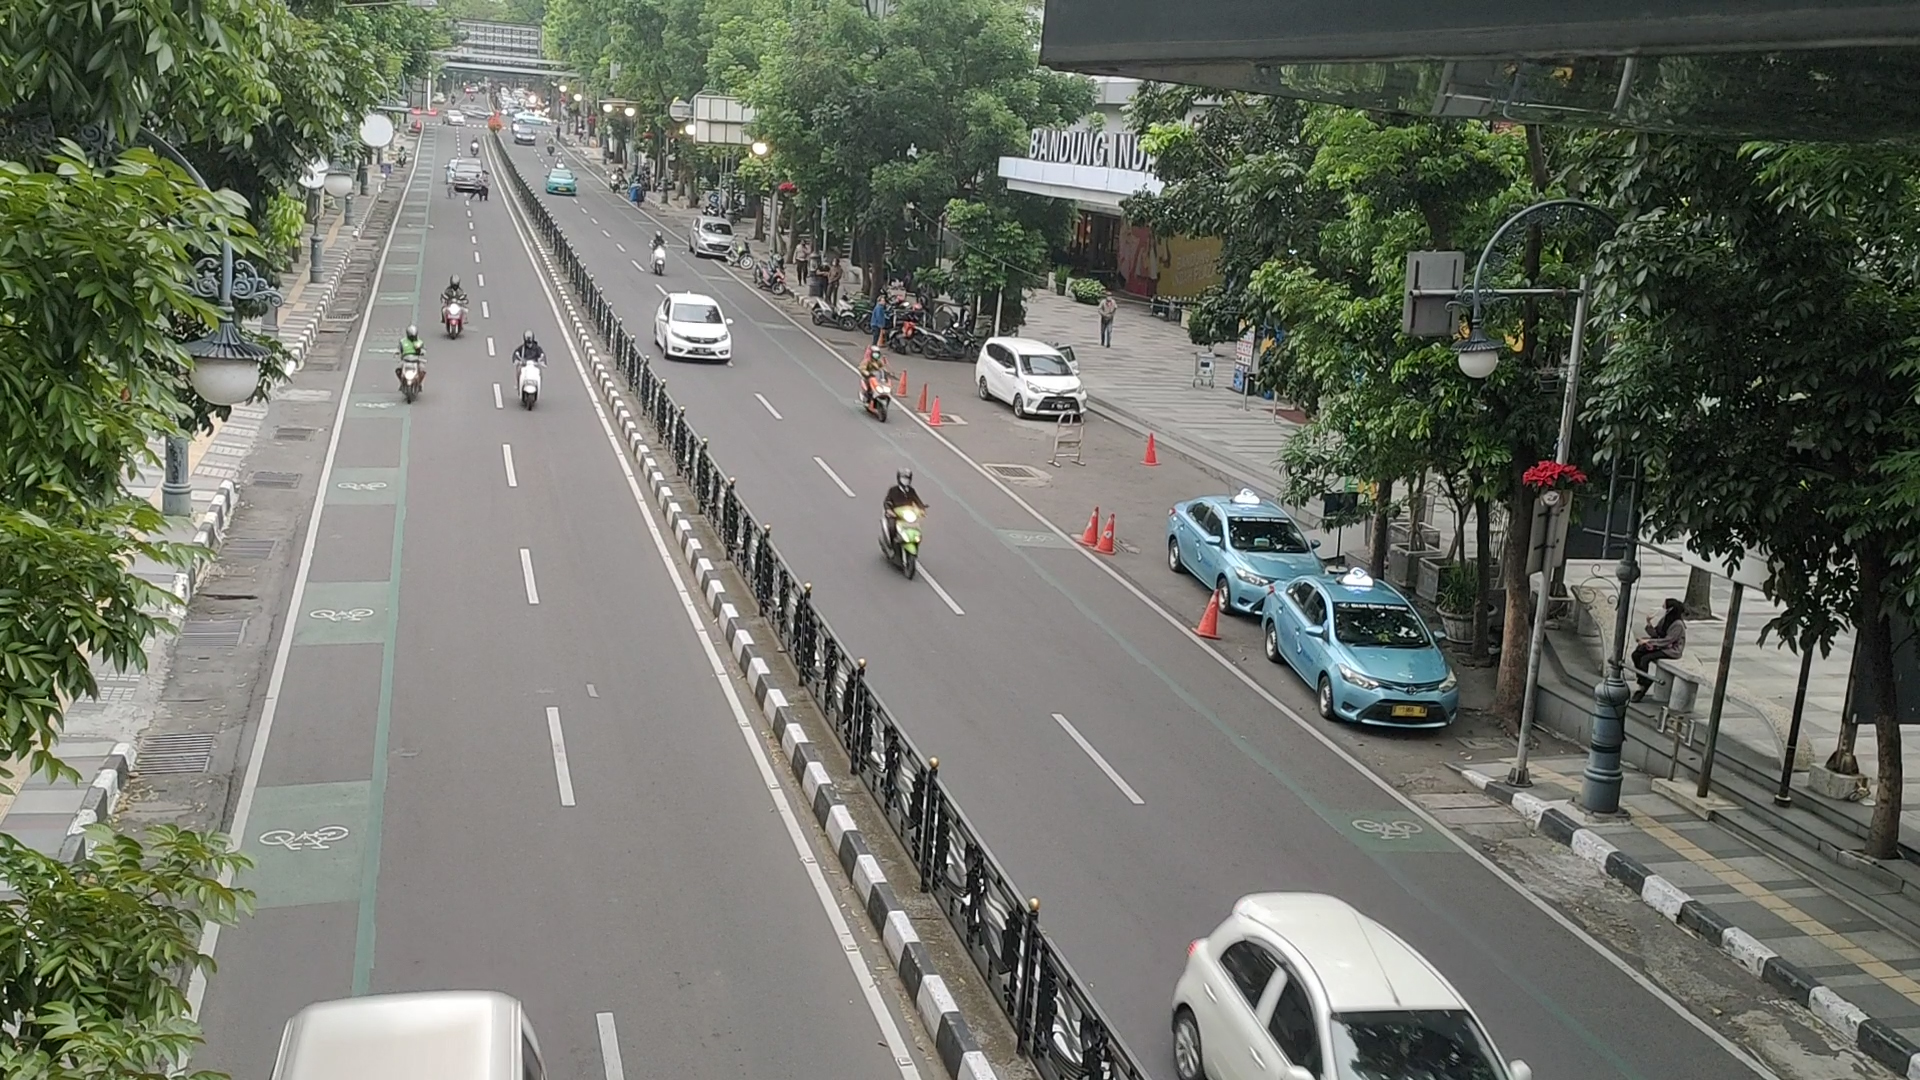mobil: (1317, 595, 1461, 733), (1013, 347, 1089, 419), (665, 299, 732, 364)
motor: (862, 458, 942, 596), (384, 314, 433, 405), (504, 320, 553, 411), (423, 260, 471, 351), (852, 338, 899, 429)
